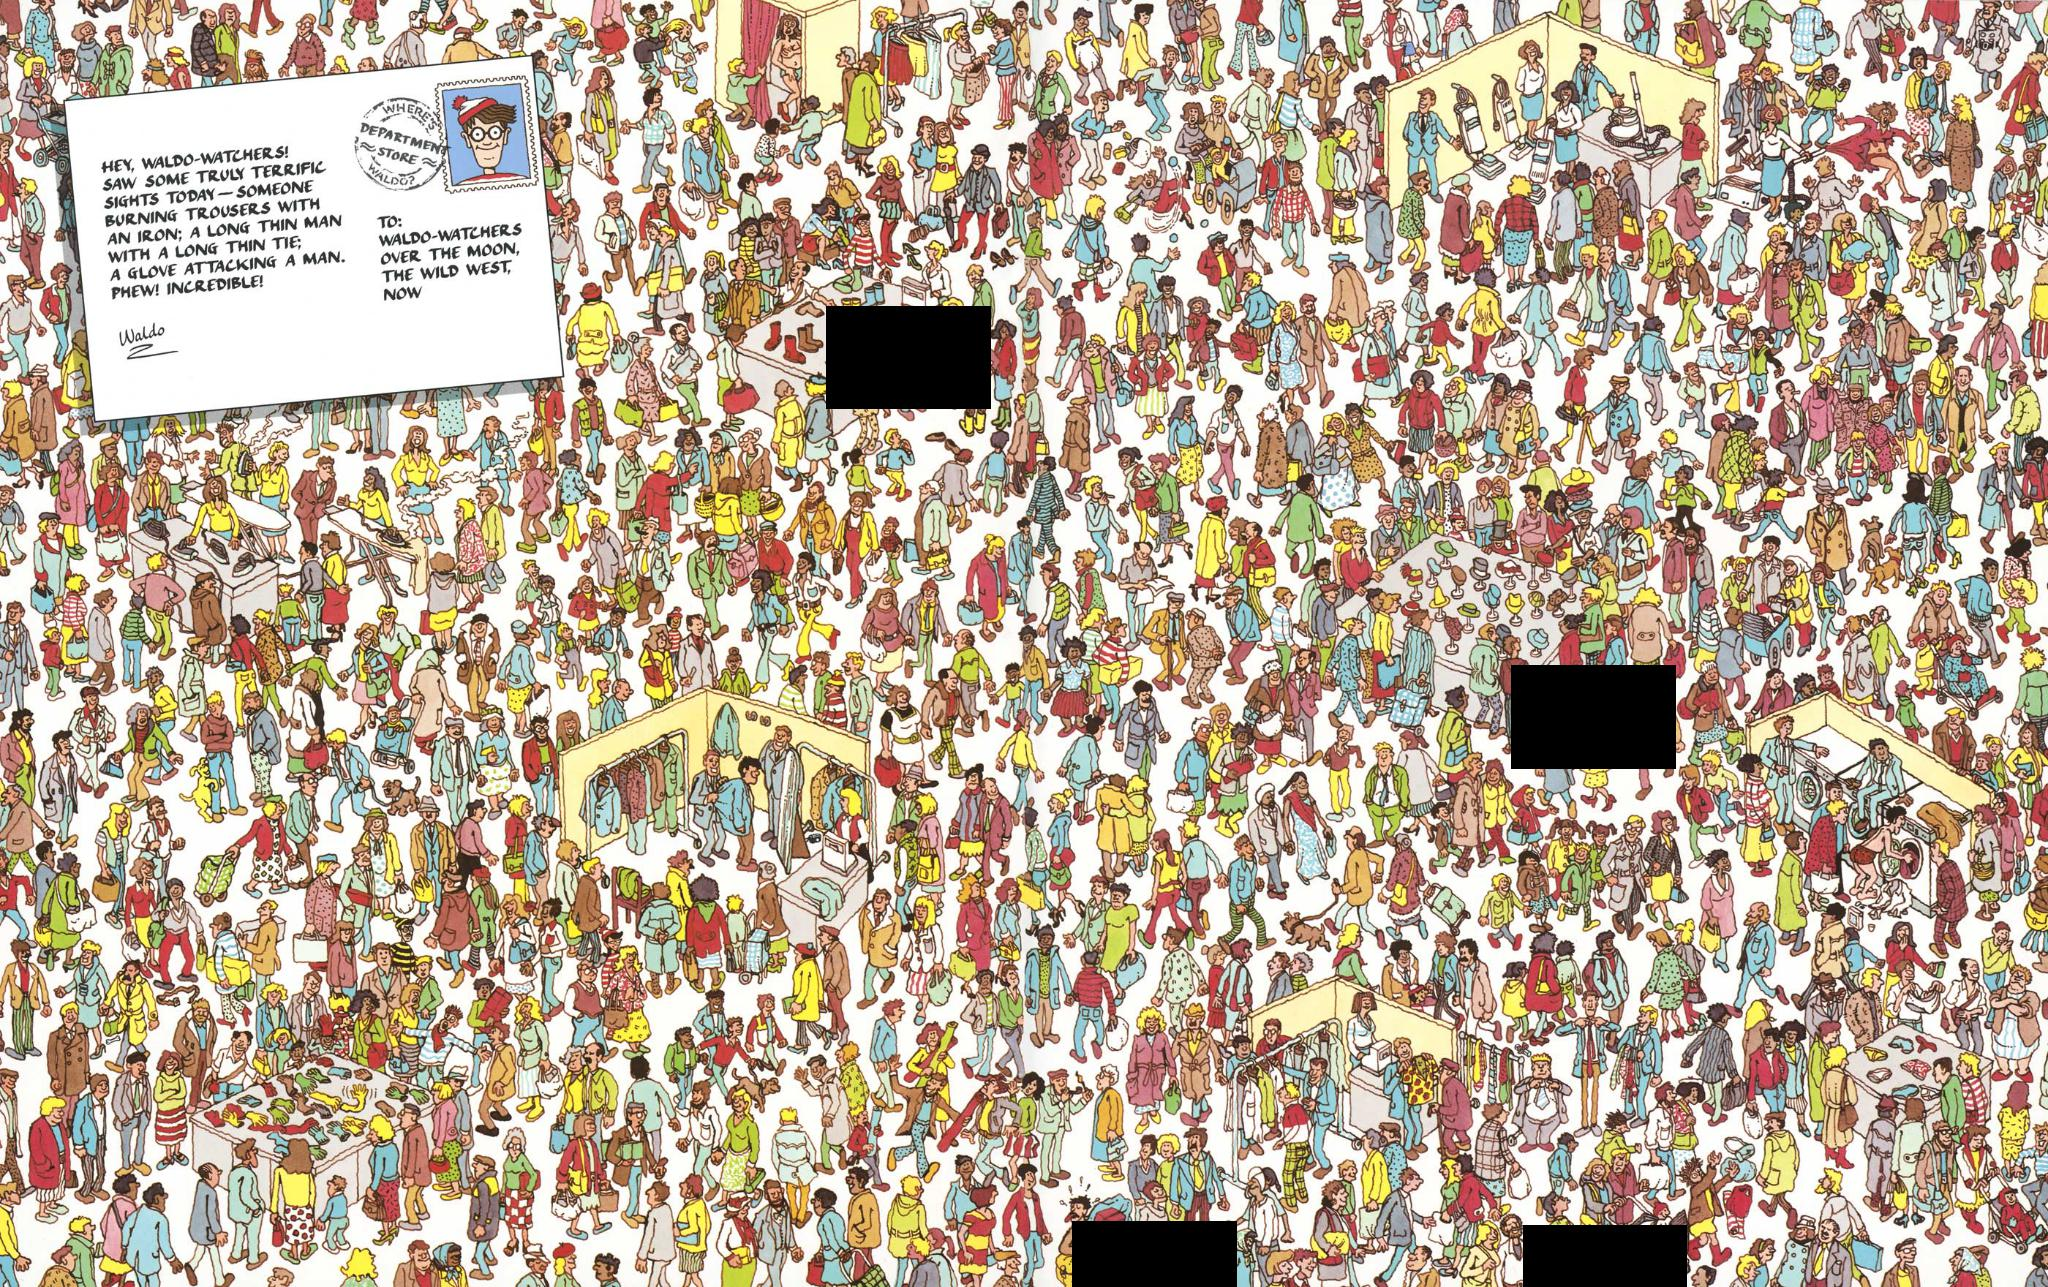waldo: (452, 95, 517, 165), (852, 214, 870, 234)
